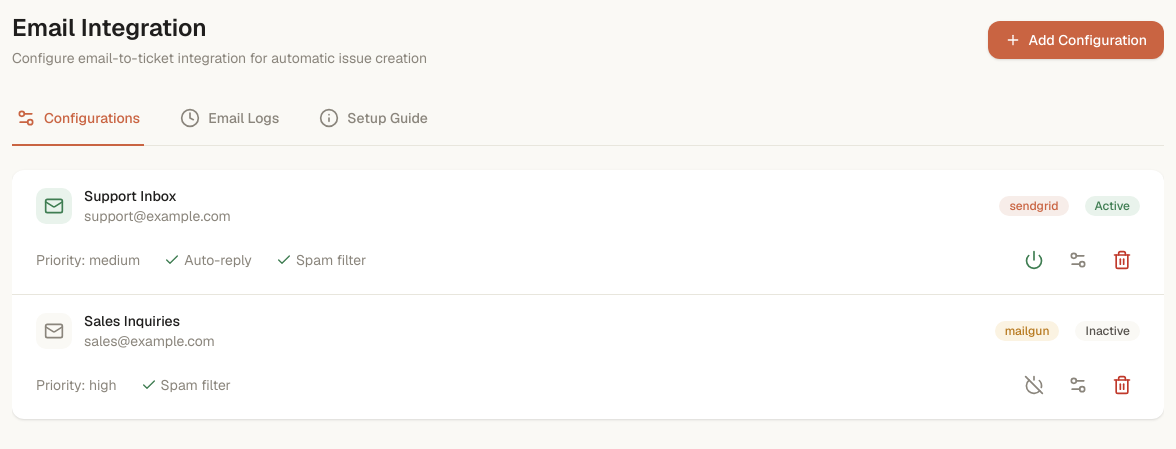
EmailIntegrationPage › Email Logs Tab › switches to logs tab
Step 1. Click the button "Email Logs" → (230, 119), box x1=176 y1=92 x2=283 y2=146
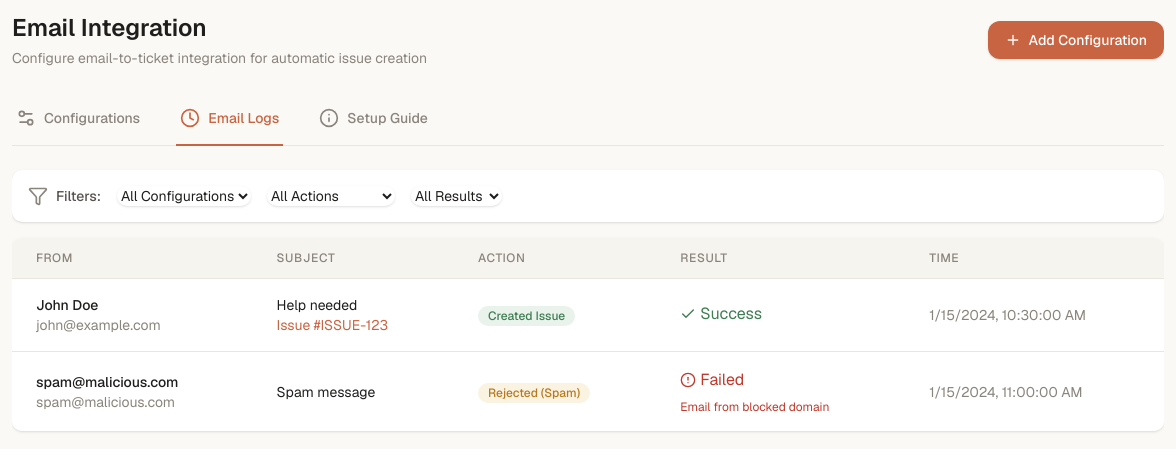
Check: the text "Filters:" is shown, box x1=56 y1=186 x2=101 y2=206
